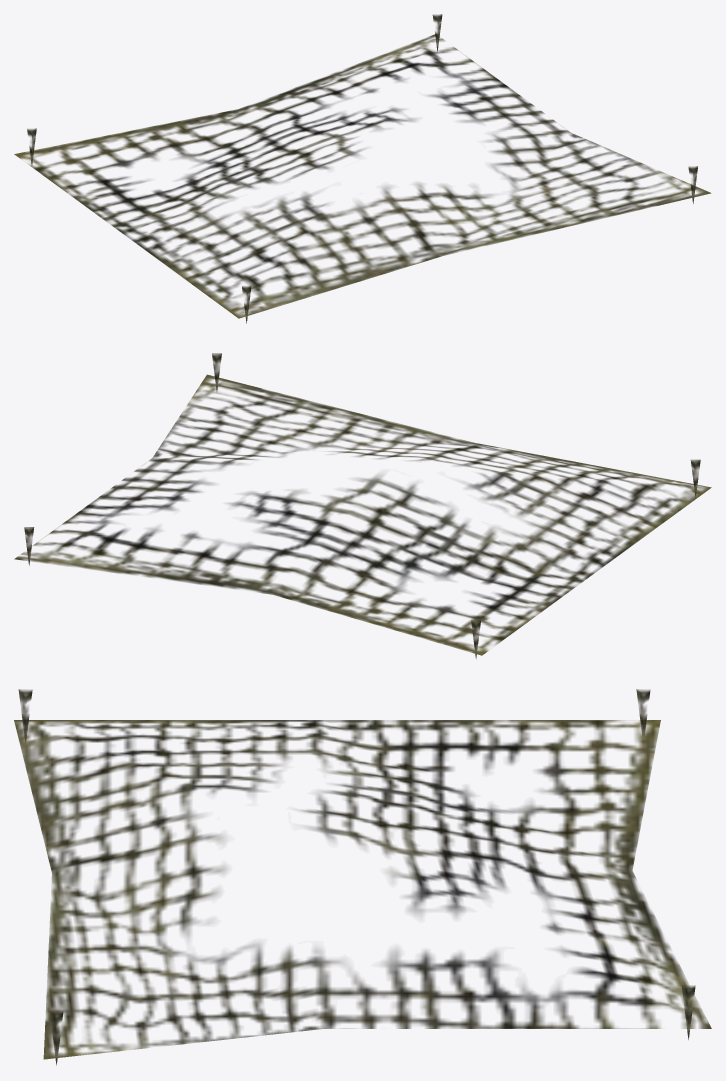
Rendered from Environment - Prop - Cargo Net 02 - Damaged - PMCrgoNet_d.glb.
3 renders of one model, top to bottom at view 1: azimuth 30°, elevation 25°; view 2: azimuth 150°, elevation 25°; view 3: azimuth 270°, elevation 25°, orthographic. The views are drawn at different scales.
Parts seen in each view (by area): view 1: PMCRGONET_D; view 2: PMCRGONET_D; view 3: PMCRGONET_D.
Boxes of the visible parts, x1,y1,x2,y2 form: PMCRGONET_D: (14, 14, 711, 323); PMCRGONET_D: (14, 353, 711, 659); PMCRGONET_D: (14, 689, 711, 1065).
Size of the model in its own units: 21.55 by 2.02 by 18.73.
1 material, 1 textured.
